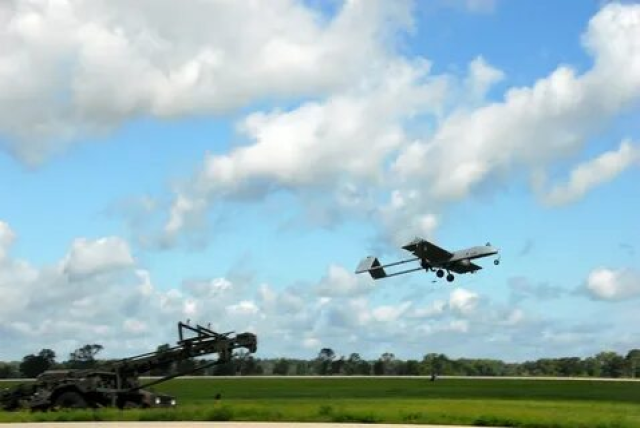military drone: (354, 237, 501, 282)
